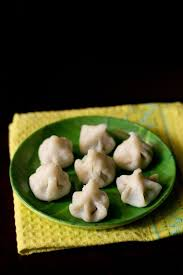modak: (69, 180, 122, 224), (73, 144, 121, 187), (74, 120, 124, 160), (119, 168, 166, 205), (117, 129, 159, 169), (32, 161, 73, 198), (41, 138, 78, 166)
